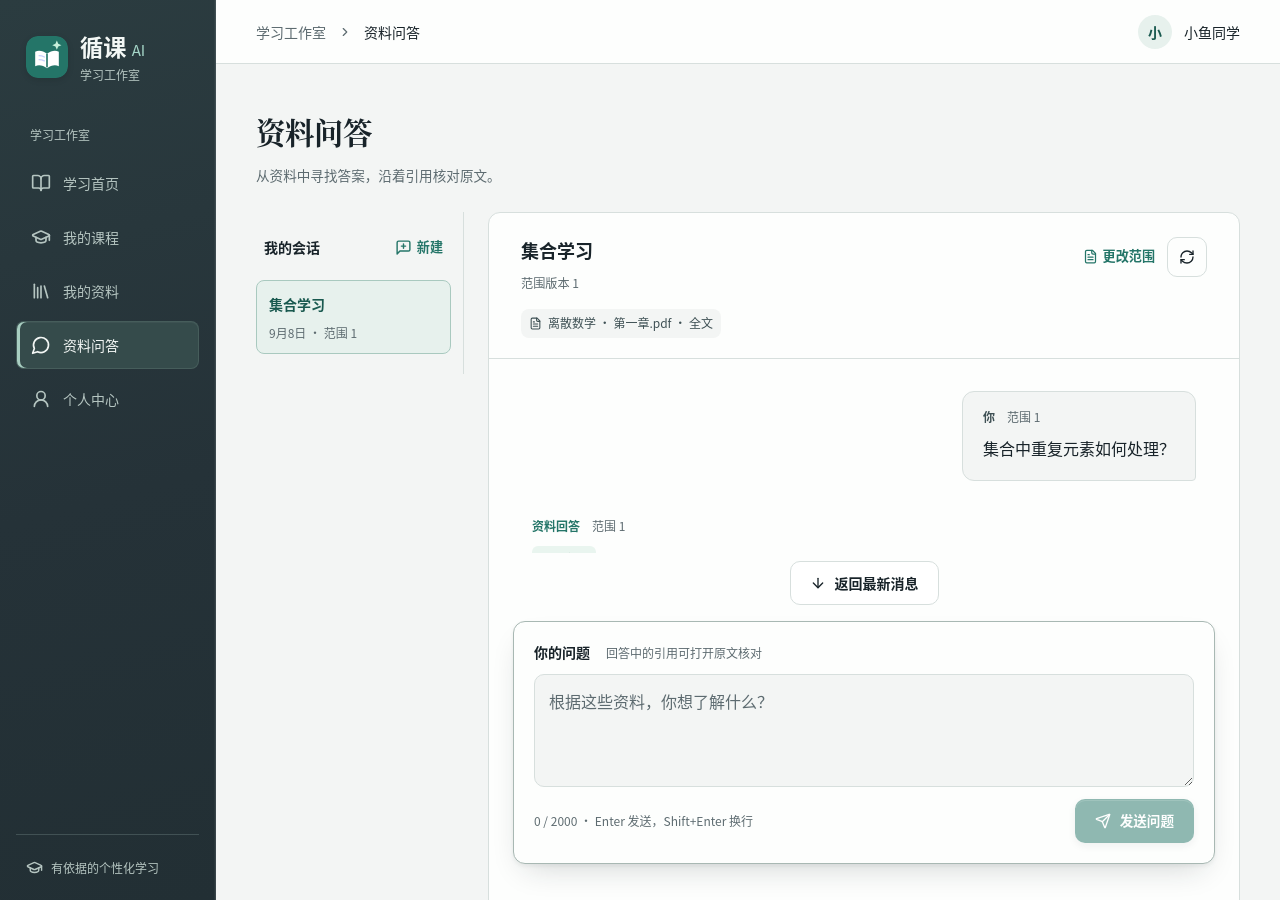
Test case: knowledge QA › sends the expected scope revision and refreshes after a concurrent range update
Click the button "更改范围": coordinates (1119, 257) [1082,241,1155,273]
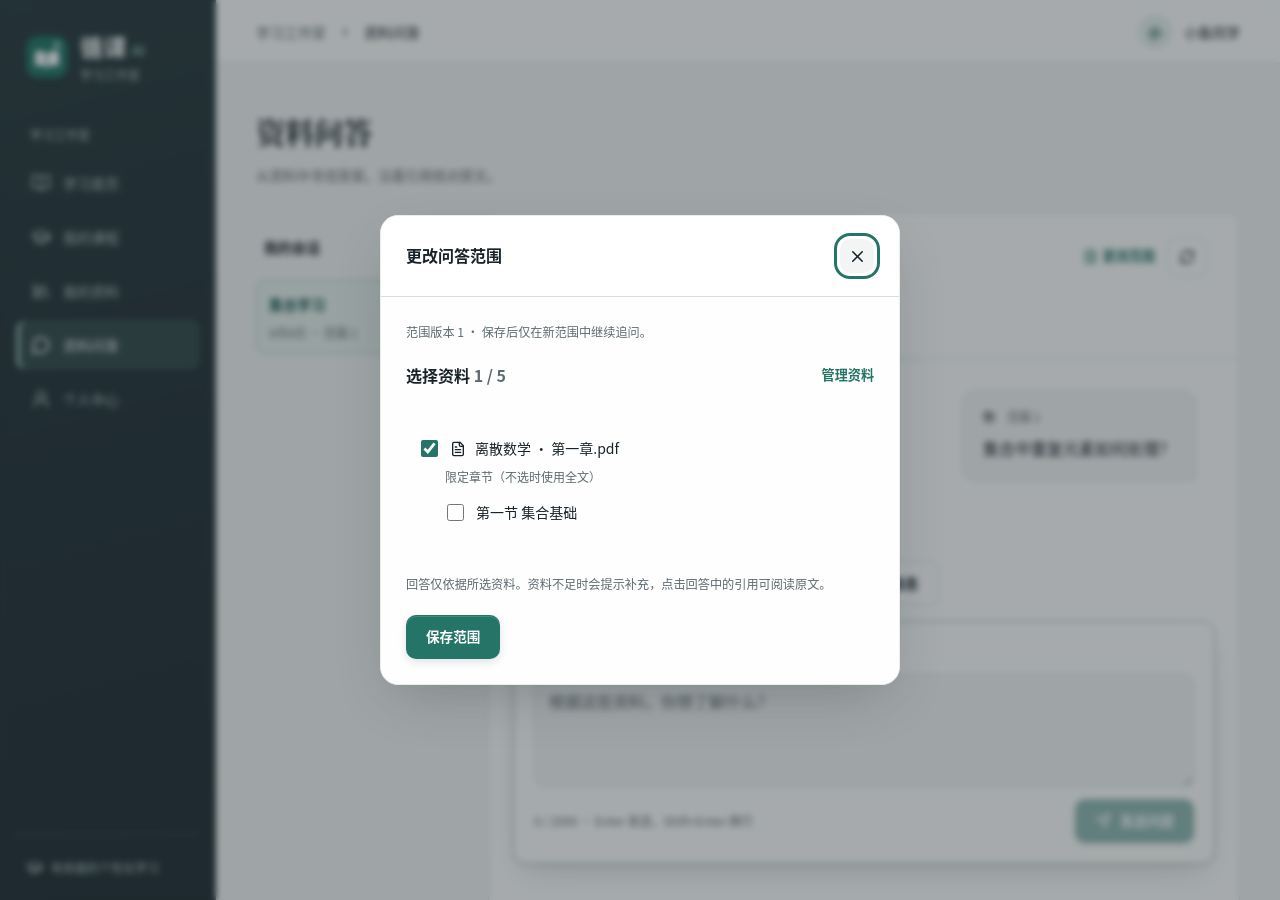
Click the button "保存范围": coordinates (453, 637) [406,615,500,659]
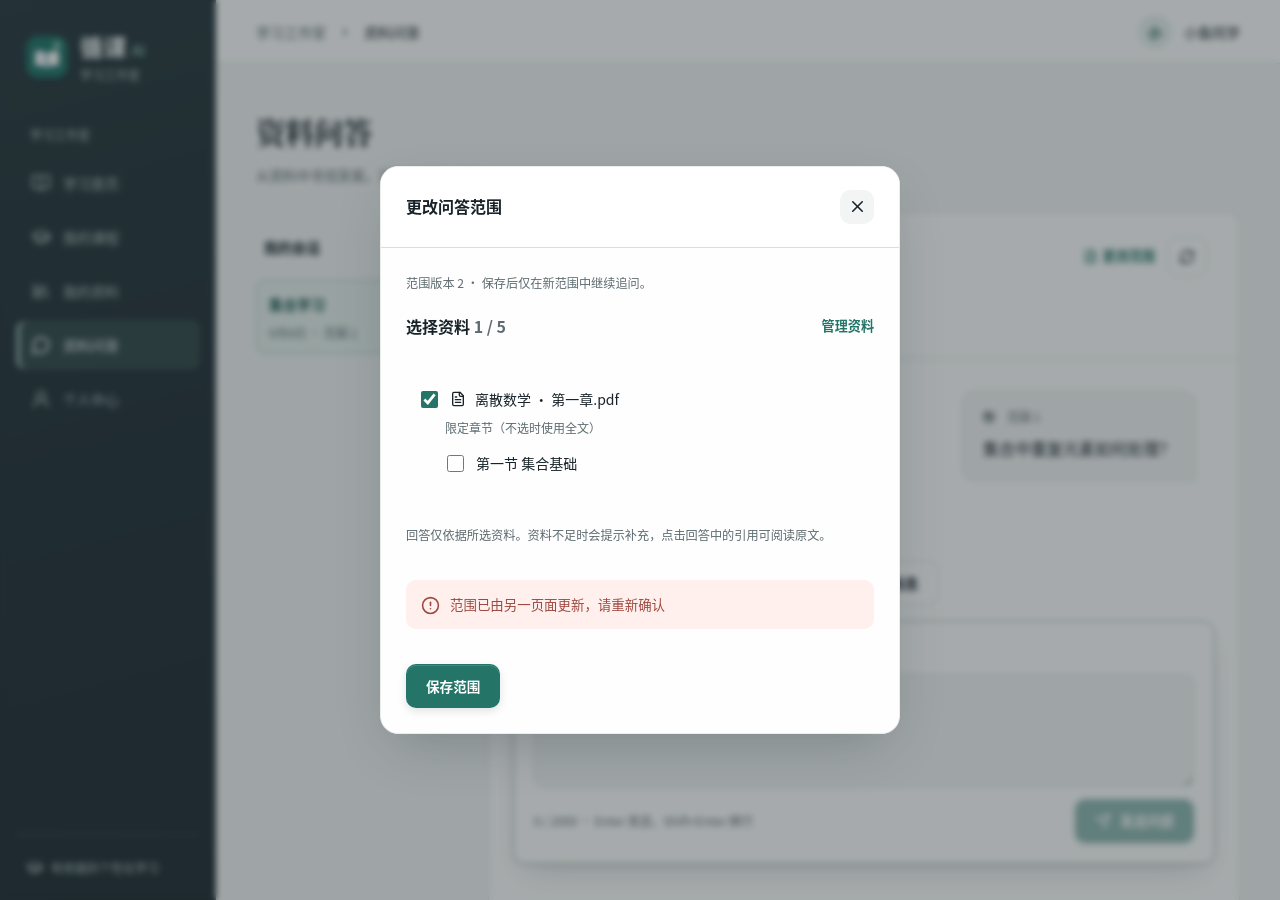
expect the text "范围已由另一页面更新，请重新确认" is shown: met, box [450,593,665,616]
expect the text "范围版本 2" is shown: met, box [521,274,579,292]
Click the button "保存范围": coordinates (453, 686) [406,664,500,708]
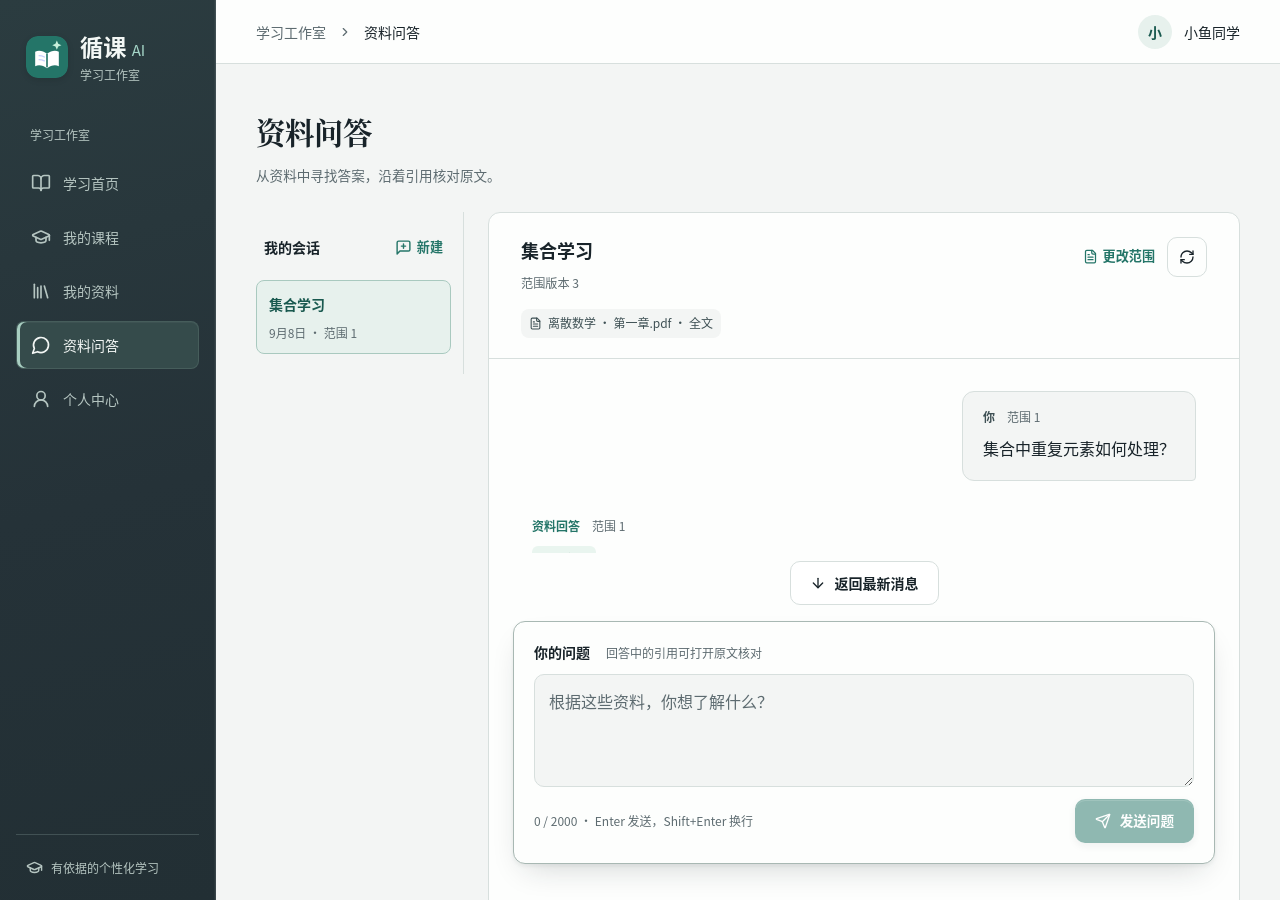
expect the heading "更改问答范围" is gone: met
expect the text "范围版本 3" is shown: met, box [521,274,579,292]
